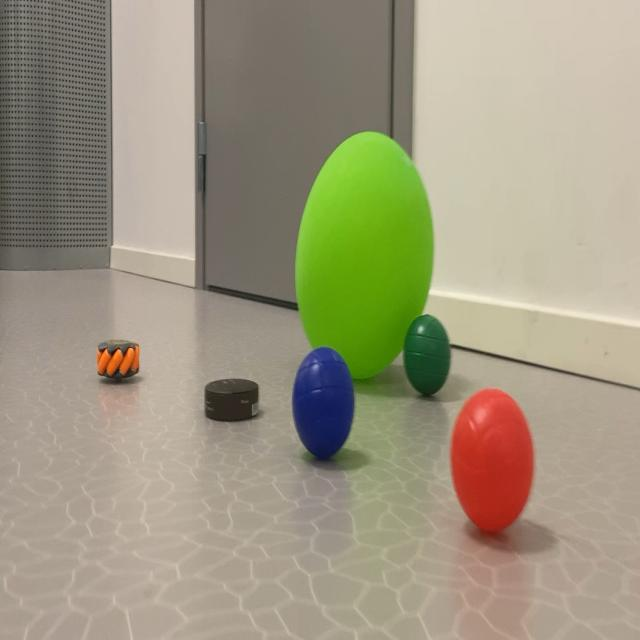7: (410, 358, 554, 567)
green ball: (273, 305, 359, 529)
red ball: (398, 284, 458, 418)
